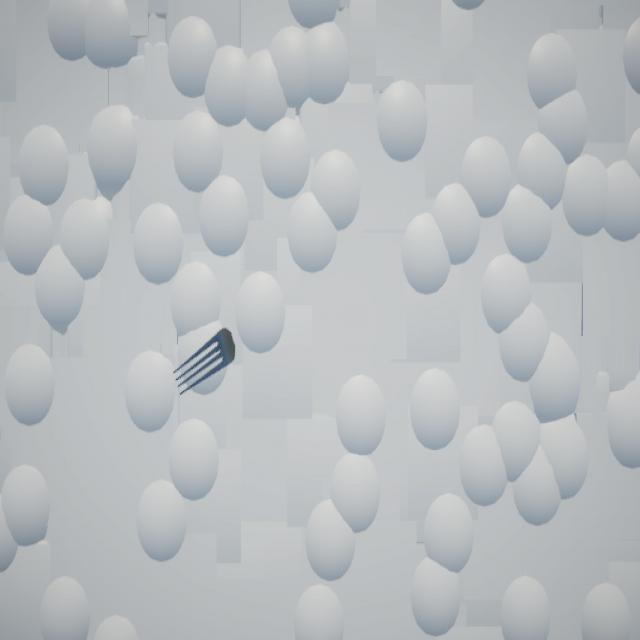top_folk: (174, 328, 237, 396)
